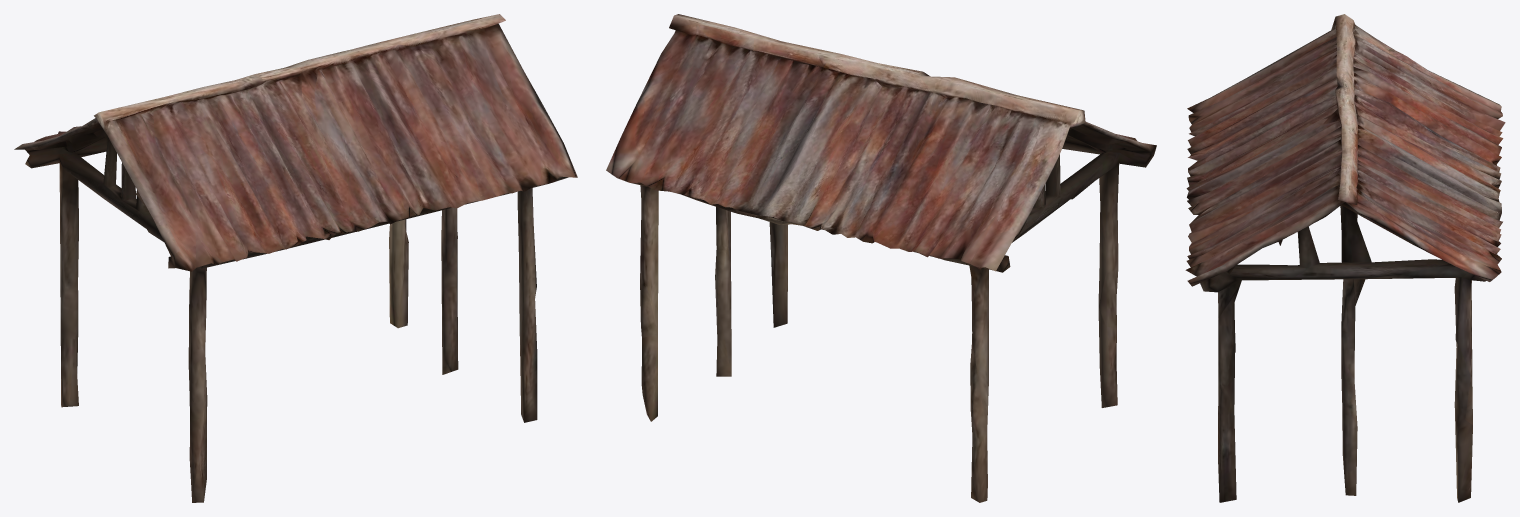
File: qr_canopy.glb
3 views of the same model, side by side, from view 1: azimuth 30°, elevation 25°; view 2: azimuth 150°, elevation 25°; view 3: azimuth 270°, elevation 25° (orthographic). The views are drawn at different scales.
Parts seen in each view (by area): view 1: tripo_node_984efbc3-c76d-4998-8aa9-ae503c93a0a8; view 2: tripo_node_984efbc3-c76d-4998-8aa9-ae503c93a0a8; view 3: tripo_node_984efbc3-c76d-4998-8aa9-ae503c93a0a8.
Boxes of the visible parts, bbox=[...] form: tripo_node_984efbc3-c76d-4998-8aa9-ae503c93a0a8: bbox=[14, 14, 577, 502]; tripo_node_984efbc3-c76d-4998-8aa9-ae503c93a0a8: bbox=[606, 14, 1156, 502]; tripo_node_984efbc3-c76d-4998-8aa9-ae503c93a0a8: bbox=[1185, 14, 1505, 502].
Bounding box in the file's own units: 1 × 0.8253 × 0.7424.
Materials: 1 (1 with a texture image).
